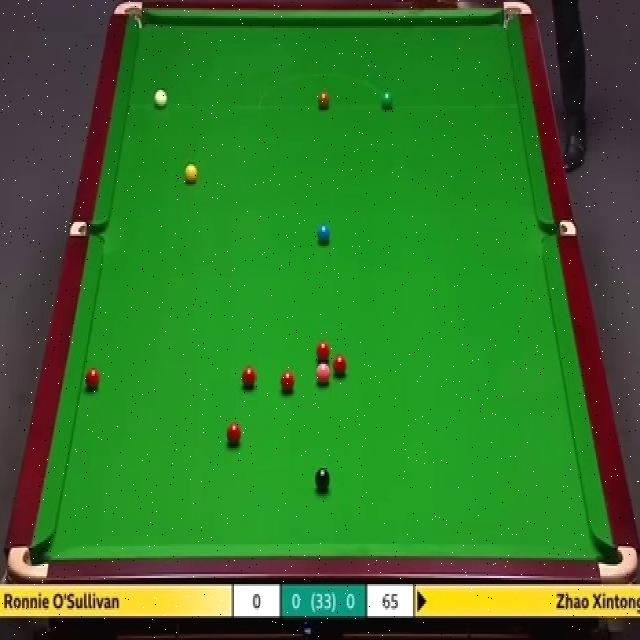black-ball: (314, 469, 331, 490)
blue-ball: (315, 224, 330, 244)
brown-ball: (318, 88, 330, 108)
green-ball: (382, 91, 395, 109)
pink-ball: (316, 360, 329, 388)
red-ball: (226, 422, 242, 447), (279, 369, 295, 393), (83, 368, 101, 388), (333, 353, 348, 377), (242, 367, 256, 390), (315, 342, 331, 361)
white-ball: (154, 89, 167, 108)
yellow-ball: (183, 162, 197, 183)
